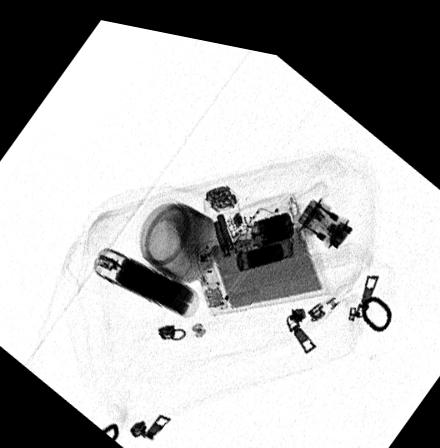Powerbank: (189, 205, 330, 306), (91, 241, 200, 312)
